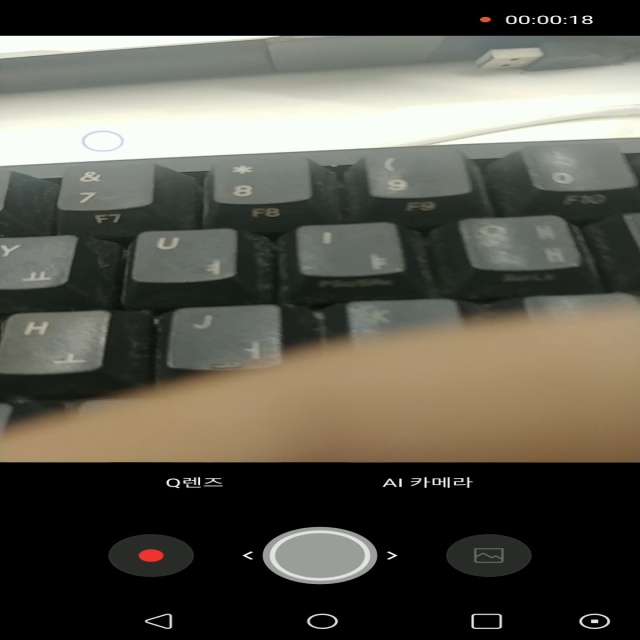Cursor: (82, 130, 127, 152)
